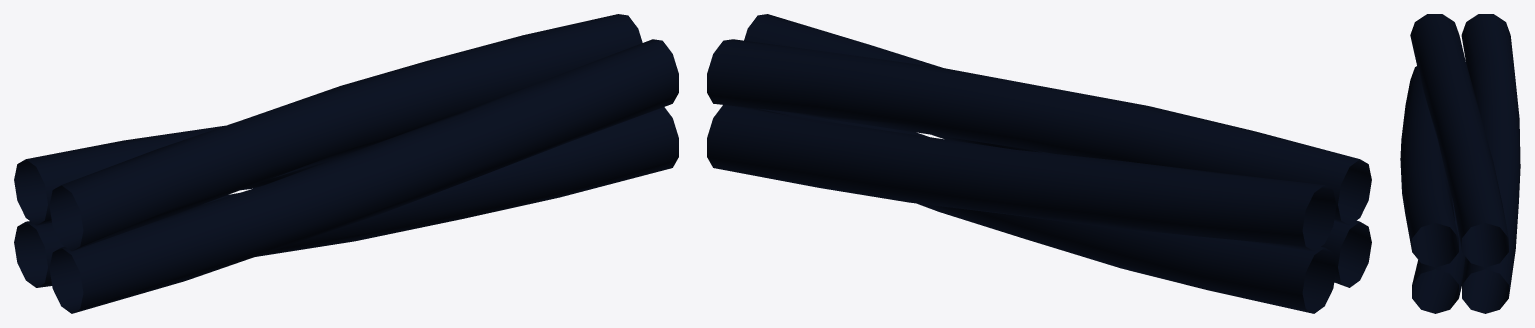
The model's file is SM_TwistedCables.FBX.
3 renders of one model, left to right at view 1: azimuth 30°, elevation 25°; view 2: azimuth 150°, elevation 25°; view 3: azimuth 270°, elevation 25°, orthographic. The views are drawn at different scales.
Visible parts, largest first — view 1: SM_TwistedCables; view 2: SM_TwistedCables; view 3: SM_TwistedCables.
Part boxes in pixels (x1=…): SM_TwistedCables: x1=14, y1=14, x2=678, y2=313; SM_TwistedCables: x1=707, y1=14, x2=1371, y2=313; SM_TwistedCables: x1=1400, y1=14, x2=1520, y2=313.
Bounding box in the file's own units: 50 × 12.05 × 12.05.
